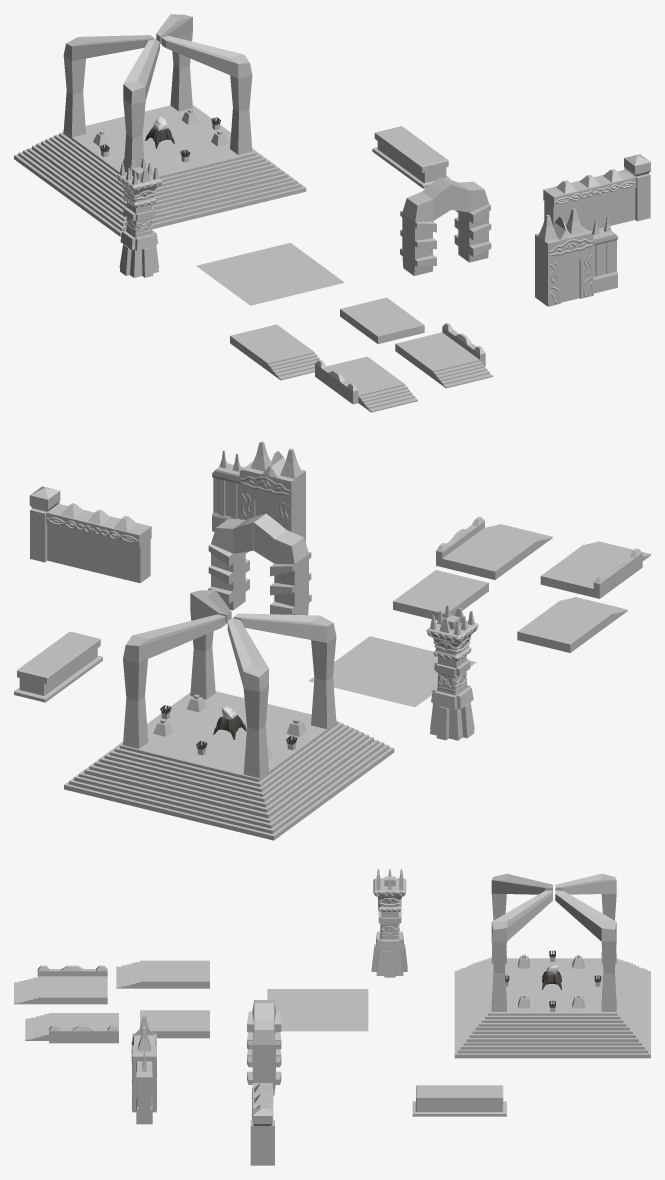
The model's file is ashor_temple.fbx.
3 views of the same model, one above another, from view 1: azimuth 30°, elevation 25°; view 2: azimuth 150°, elevation 25°; view 3: azimuth 270°, elevation 25° (orthographic). The views are drawn at different scales.
Visible parts, largest first — view 1: Cube.021, Cube.003, Cube.004, Cube, Plane, Cube.001, Cube.007, Cube.006, Cube.005, Cube.002, Cube.015; view 2: Cube.021, Cube, Cube.004, Cube.003, Plane, Cube.001, Cube.007, Cube.006, Cube.002, Cube.005, Cube.015; view 3: Cube.021, Plane, Cube.006, Cube.001, Cube.002, Cube.007, Cube.004, Cube.005, Cube.003, Cube, Cube.015.
Part boxes in pixels (<box>): Cube.021: <box>14,14,306,236</box>; Cube.003: <box>535,208,617,306</box>; Cube.004: <box>400,177,491,275</box>; Cube: <box>543,154,650,230</box>; Plane: <box>196,242,344,305</box>; Cube.001: <box>116,158,162,277</box>; Cube.007: <box>395,323,492,388</box>; Cube.006: <box>315,356,417,412</box>; Cube.005: <box>230,324,319,380</box>; Cube.002: <box>372,126,450,188</box>; Cube.015: <box>340,297,424,343</box>; Cube.021: <box>64,590,394,840</box>; Cube: <box>29,486,151,583</box>; Cube.004: <box>208,513,311,615</box>; Cube.003: <box>212,441,305,541</box>; Plane: <box>308,636,476,707</box>; Cube.001: <box>426,605,478,740</box>; Cube.007: <box>436,516,552,579</box>; Cube.006: <box>540,541,650,598</box>; Cube.002: <box>14,631,102,702</box>; Cube.005: <box>517,597,627,652</box>; Cube.015: <box>393,570,488,620</box>; Cube.021: <box>454,873,650,1058</box>; Plane: <box>267,989,368,1031</box>; Cube.006: <box>14,965,107,1004</box>; Cube.001: <box>371,869,407,977</box>; Cube.002: <box>412,1085,506,1116</box>; Cube.007: <box>25,1013,118,1043</box>; Cube.004: <box>247,1000,281,1095</box>; Cube.005: <box>116,960,209,988</box>; Cube.003: <box>131,1015,156,1124</box>; Cube: <box>250,1083,274,1165</box>; Cube.015: <box>140,1010,209,1038</box>.
Bounding box in the file's own units: 59429 × 17777 × 78377.
